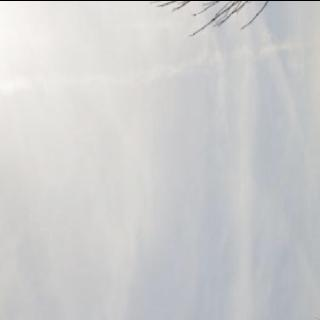Contrails: (0, 18, 320, 109)
